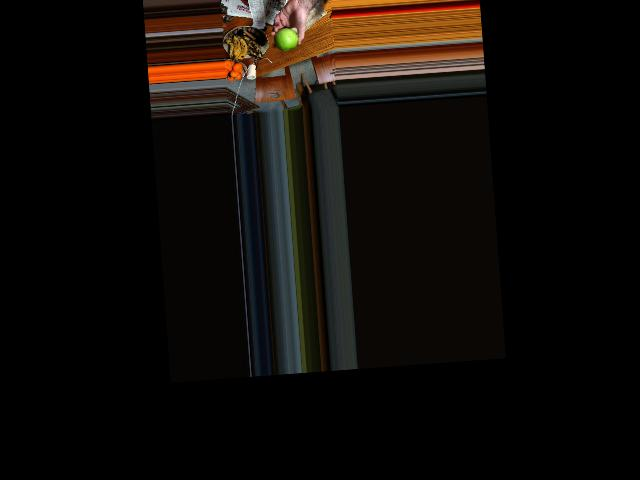apple: (273, 24, 301, 53)
